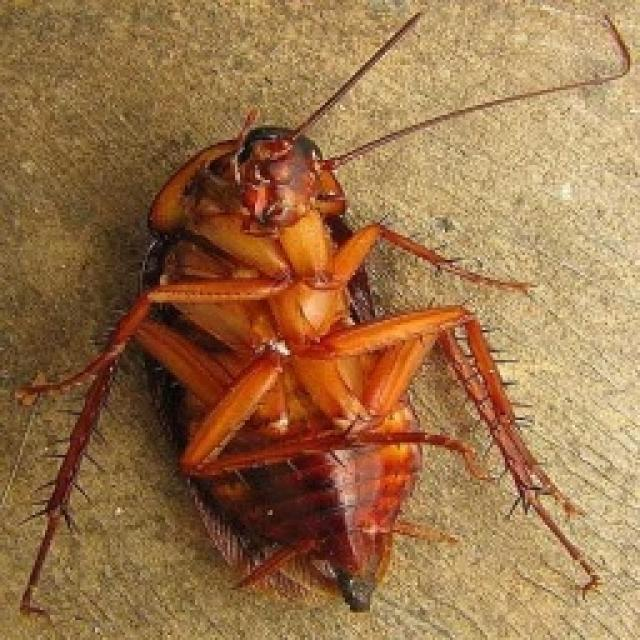cockroach: (13, 9, 630, 620)
